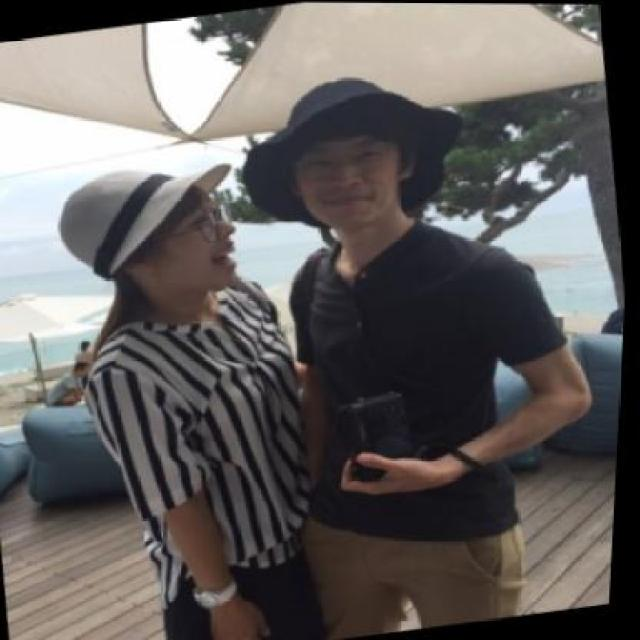hat: (226, 53, 482, 219), (40, 137, 243, 292)
